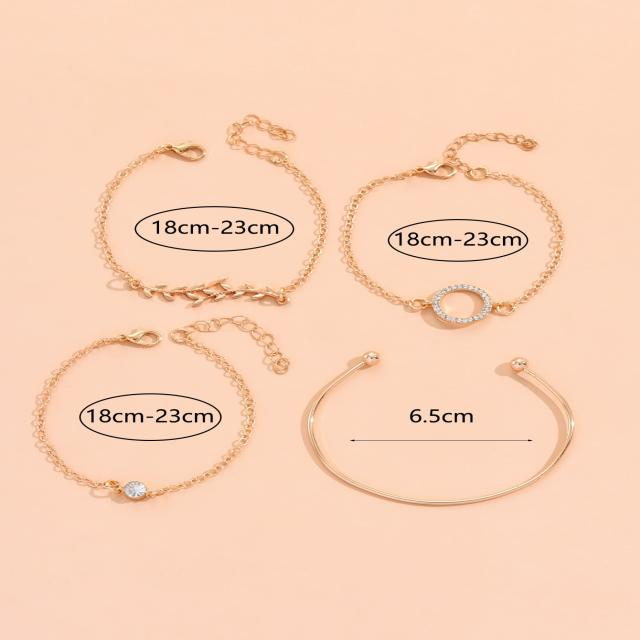bracelet: (72, 87, 390, 347), (312, 103, 604, 342), (325, 322, 640, 528), (0, 310, 278, 531)
